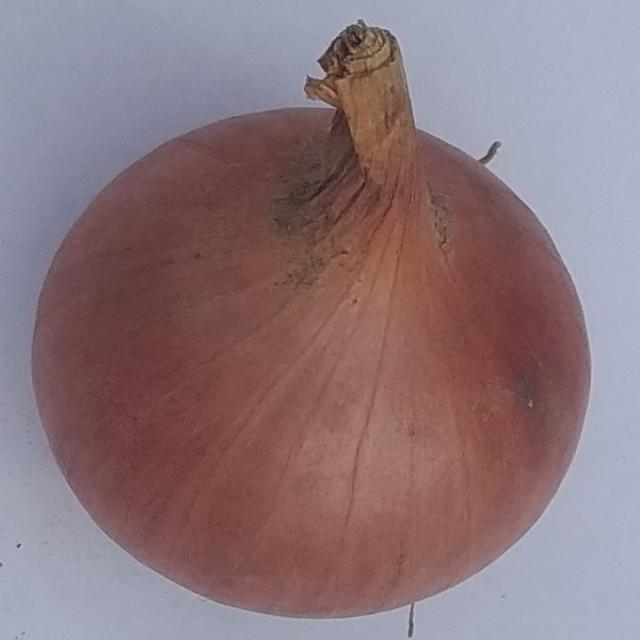onion: (27, 15, 595, 621)
